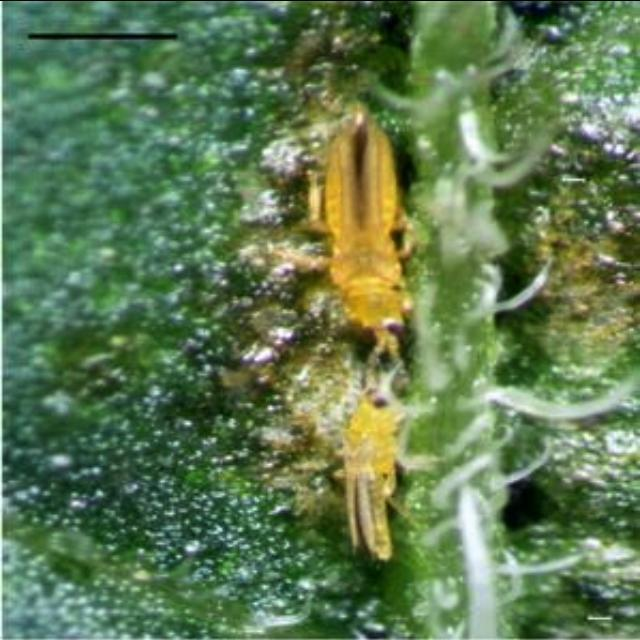melon thrips: (264, 77, 488, 340), (316, 371, 454, 587)
